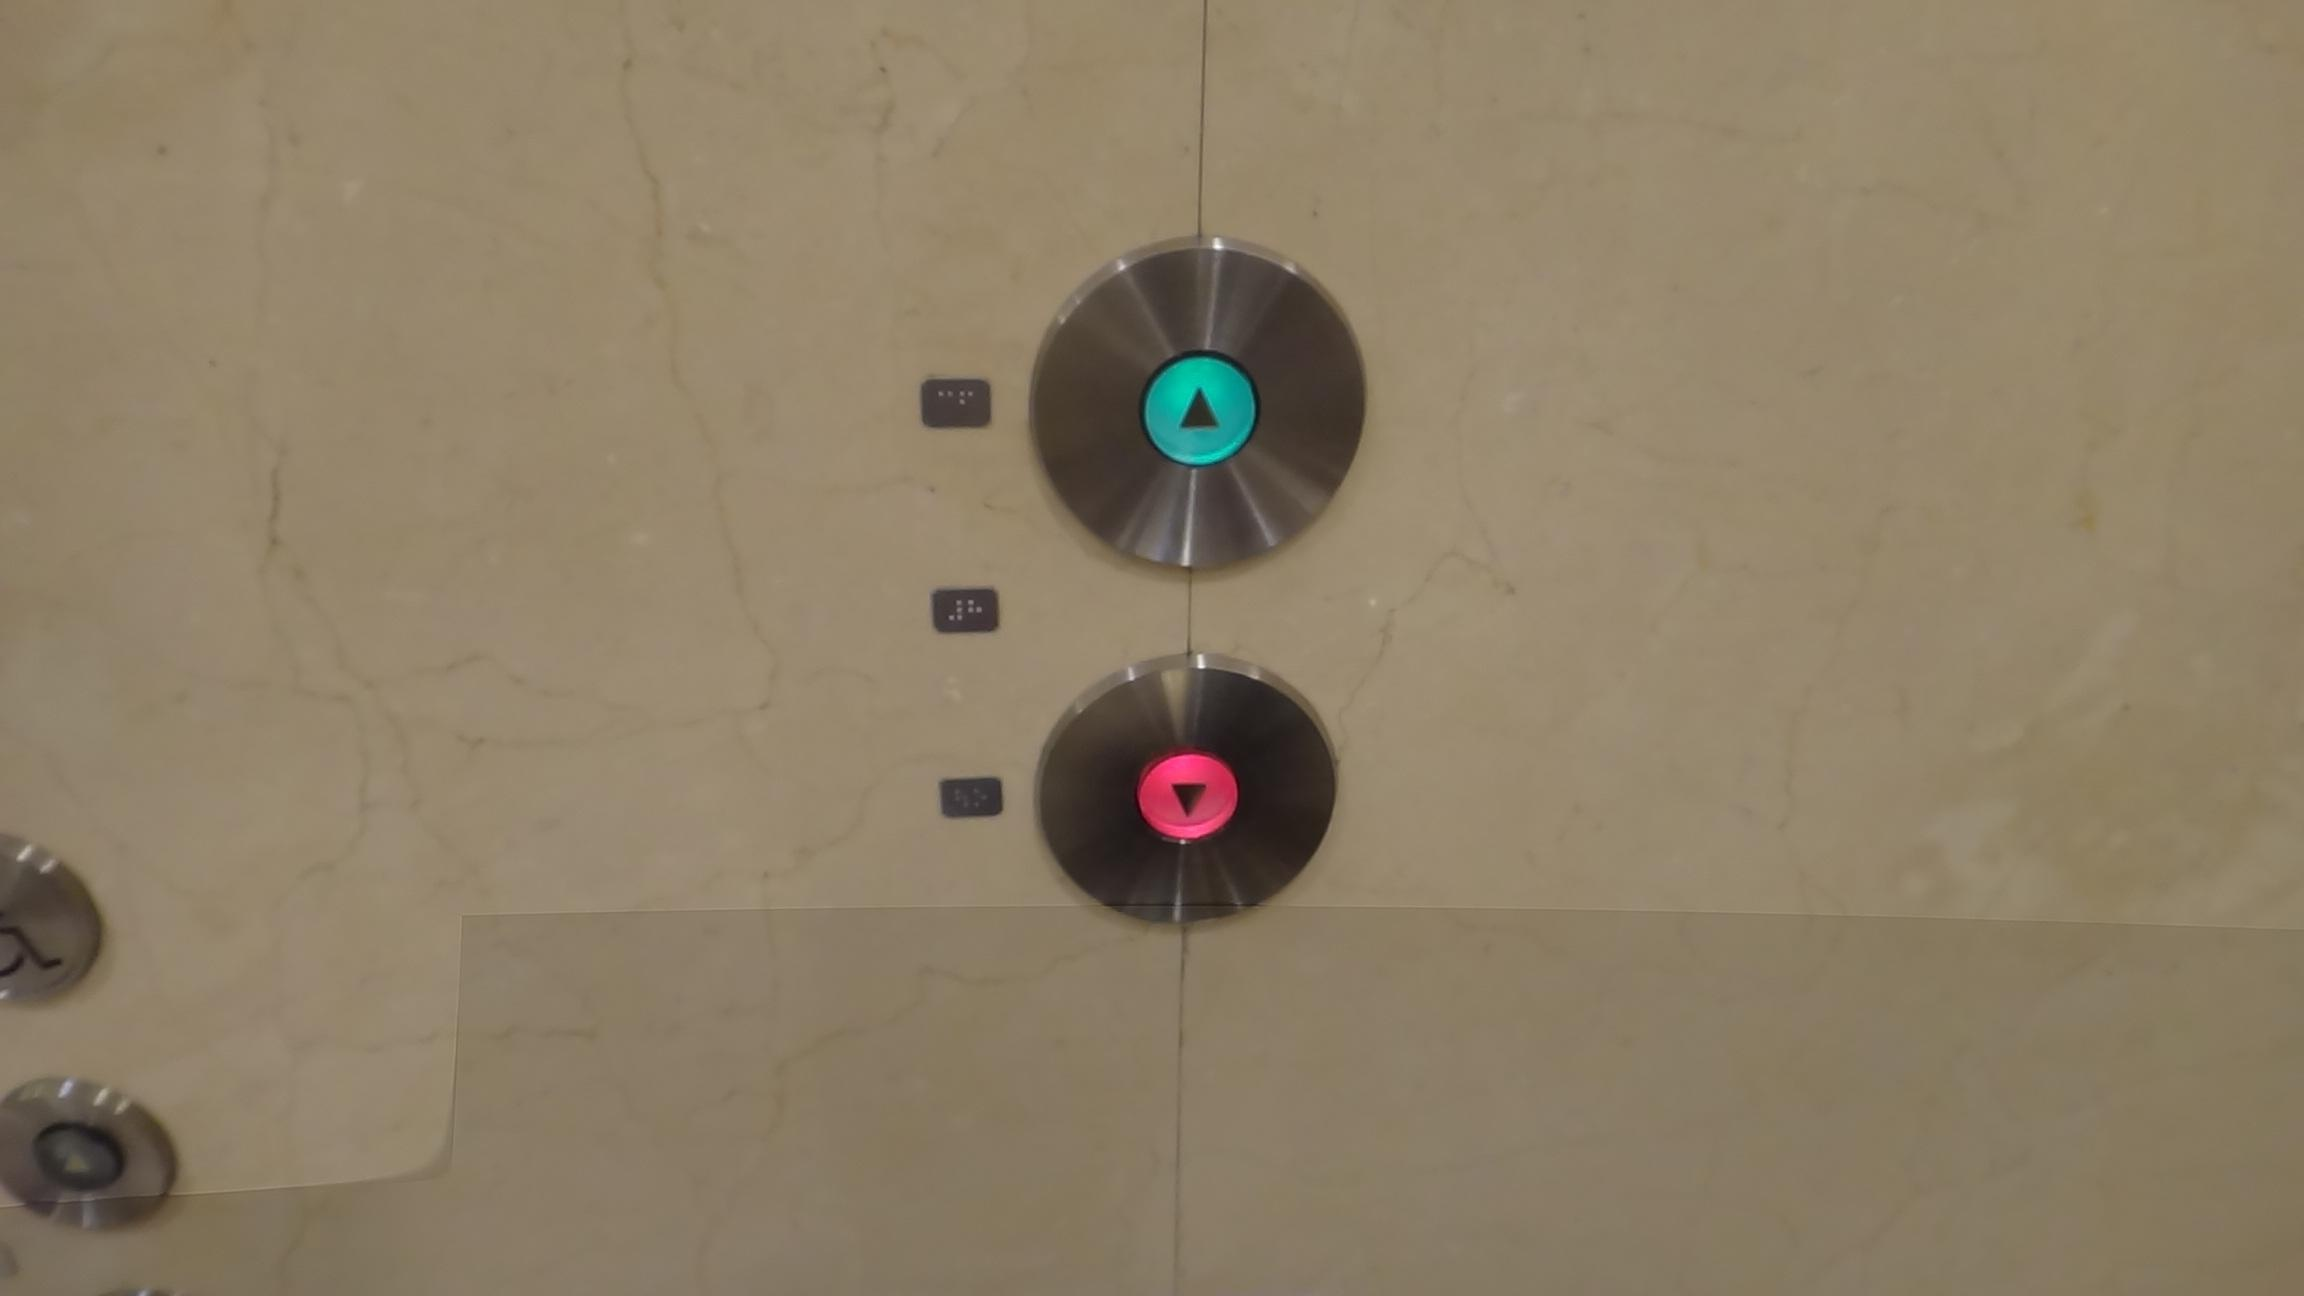down: (1032, 650, 1339, 926)
up: (1027, 229, 1366, 571), (2, 1068, 187, 1247)
